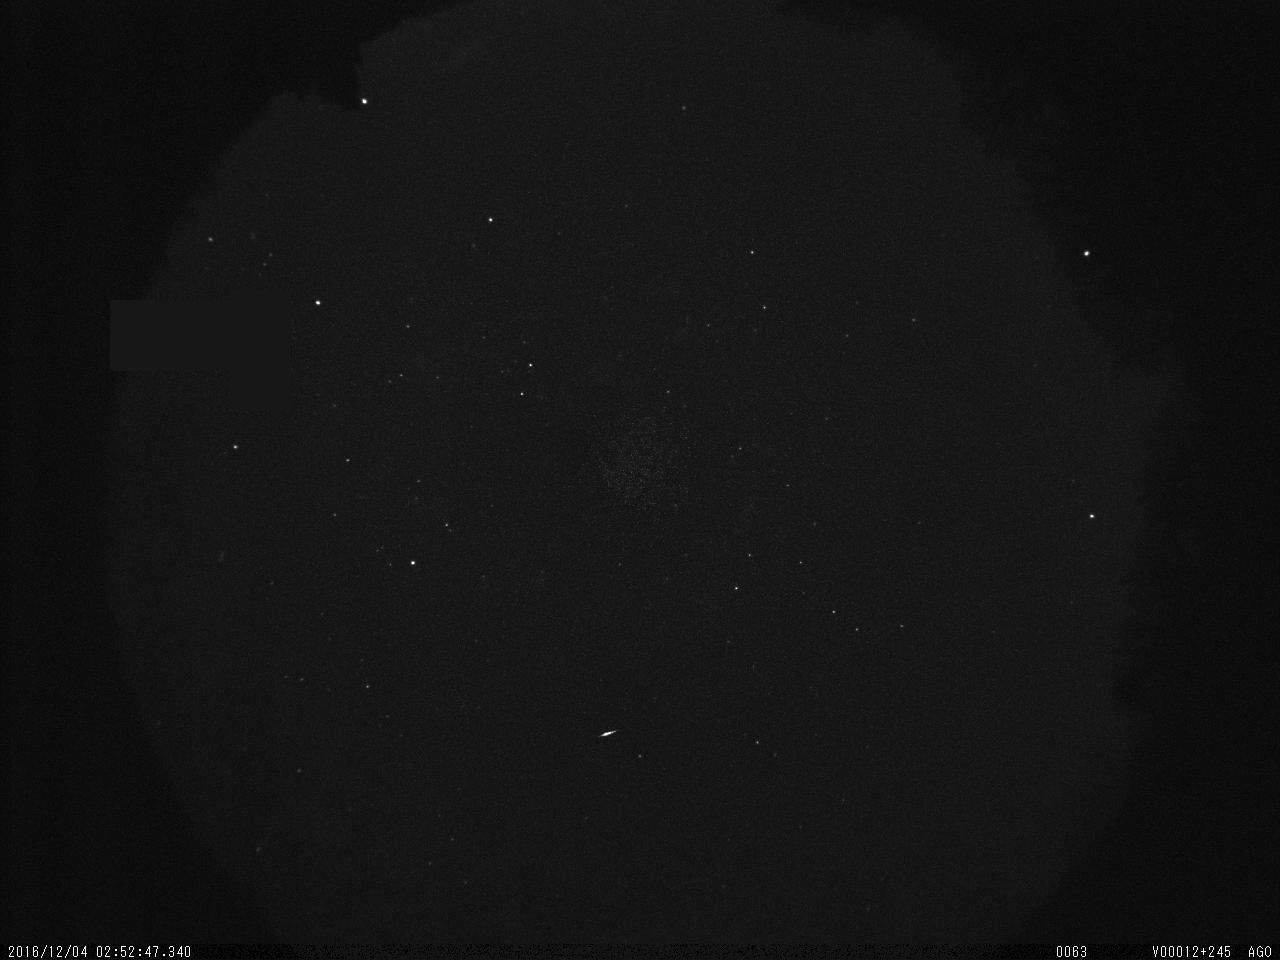meteor: (594, 729, 622, 738)
